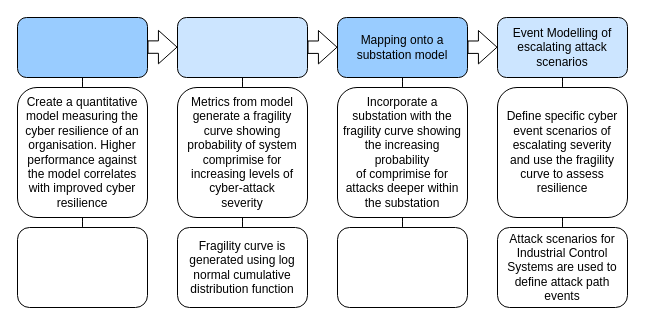
This 645x325 diagram has some shape labels left out. Each missing label, with the centre of its shape:
"Application of Fragility Curve" goes at point 242,47.
"Establish a Model" goes at point 82,47.
"Measured by assessing performance against CAF Objective B" goes at point 82,267.
"The Purdue Model is used in this study to model resilience of the substation" goes at point 402,267.
